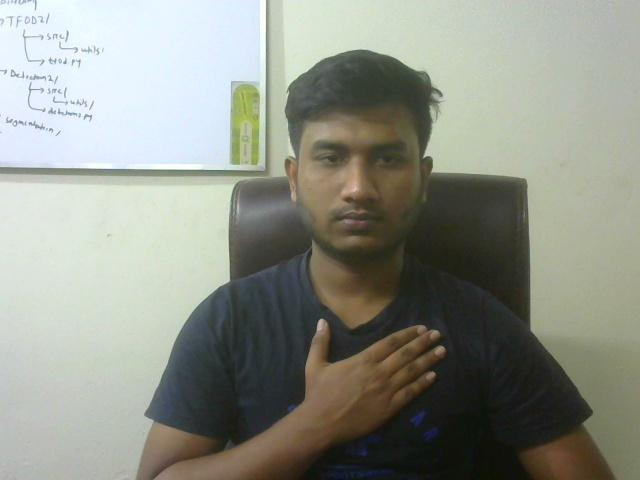Please: (294, 304, 463, 446)
